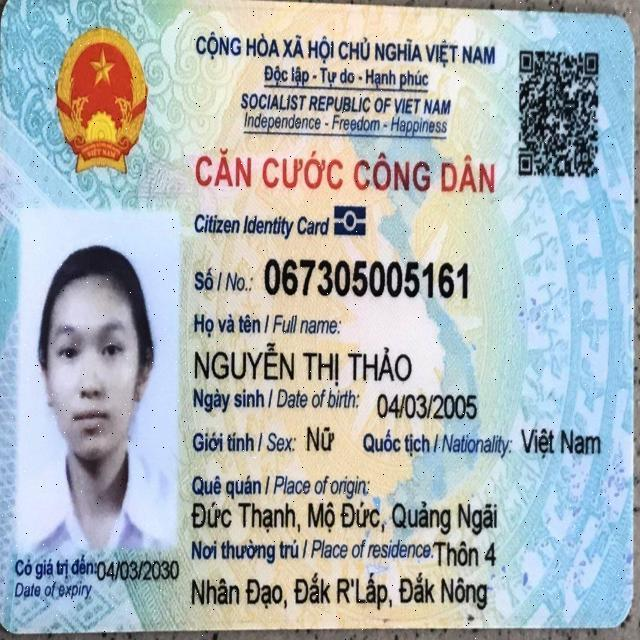current_place: (189, 571, 489, 614), (432, 538, 497, 571)
dob: (376, 389, 479, 422)
expire_date: (95, 558, 181, 584)
gender: (304, 422, 336, 456)
id: (262, 254, 471, 305)
name: (192, 340, 415, 389)
nationality: (519, 425, 603, 462)
origin_place: (189, 498, 499, 539)
